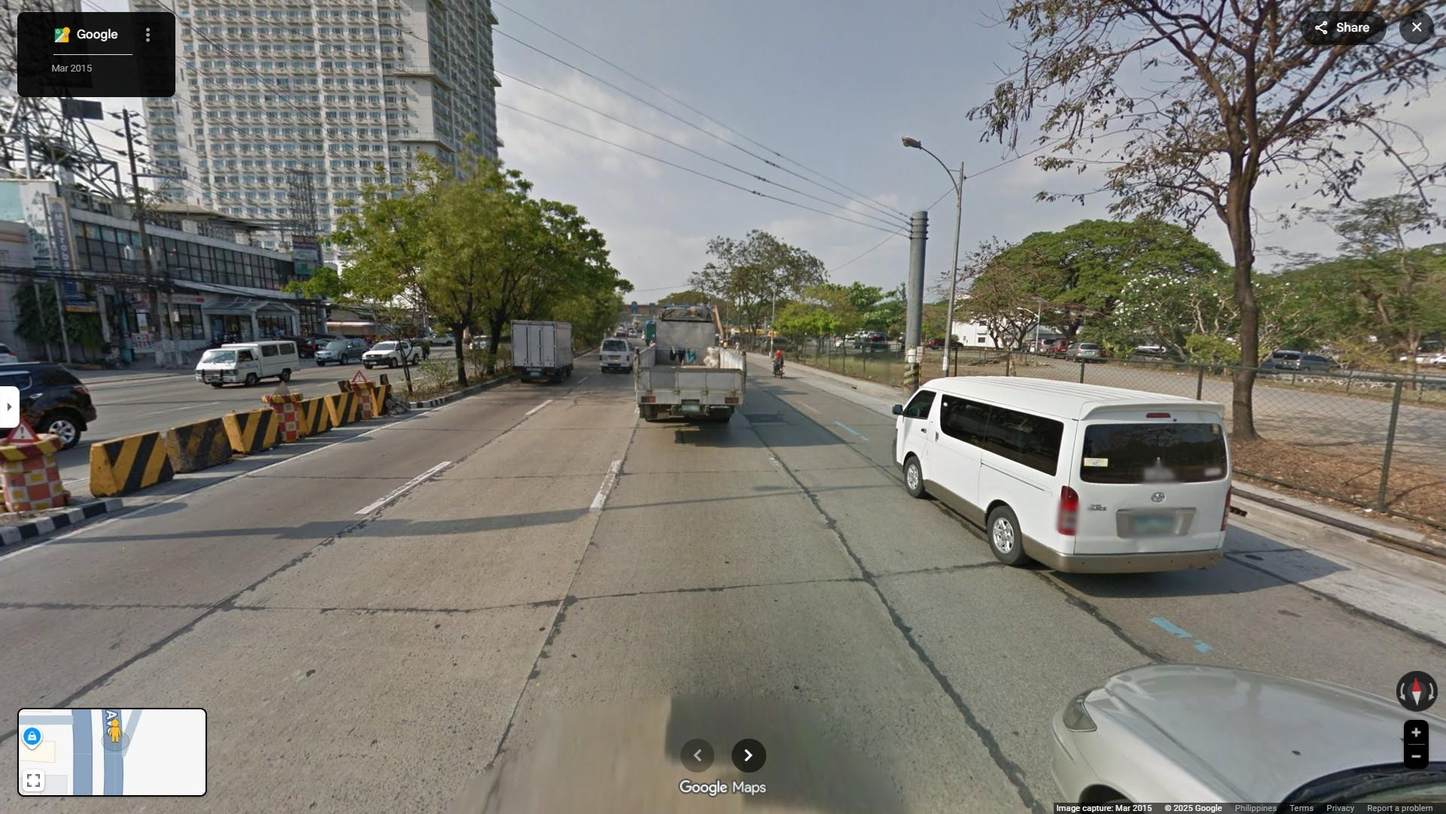pedestrian: (733, 340, 741, 358)
